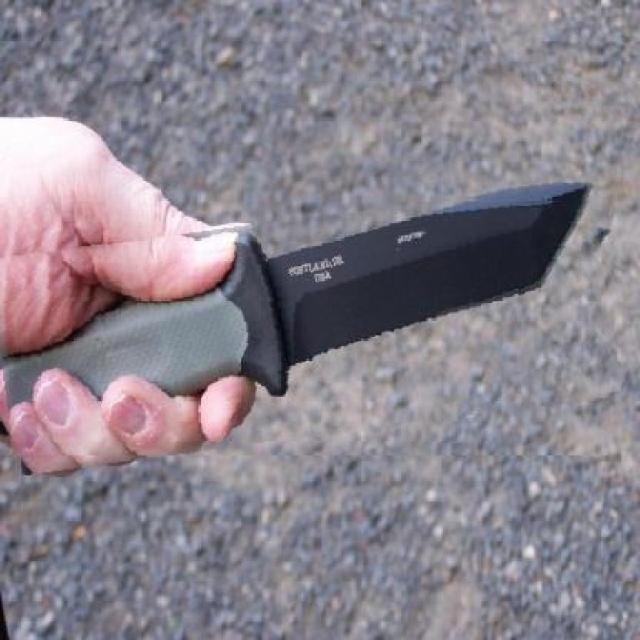knife: (0, 195, 614, 456)
